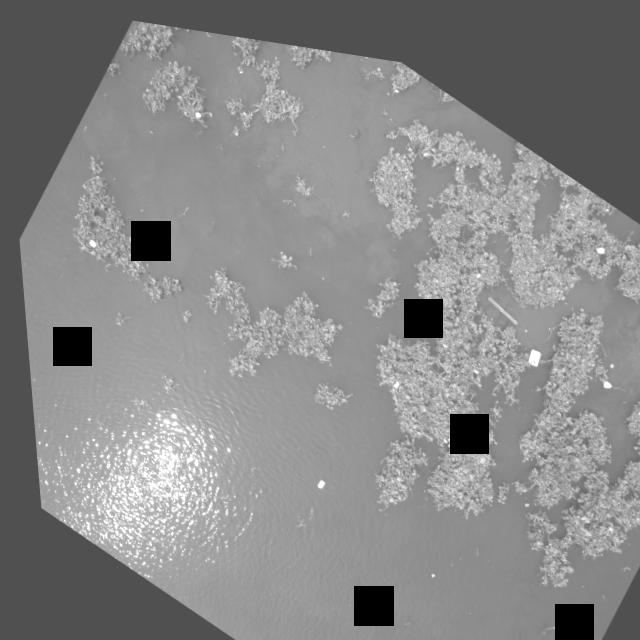plastic: (513, 323, 545, 359), (186, 99, 206, 120), (304, 465, 323, 486), (593, 357, 610, 374), (81, 232, 97, 249), (591, 222, 606, 238), (381, 363, 395, 379), (514, 483, 524, 494), (638, 441, 640, 458)
